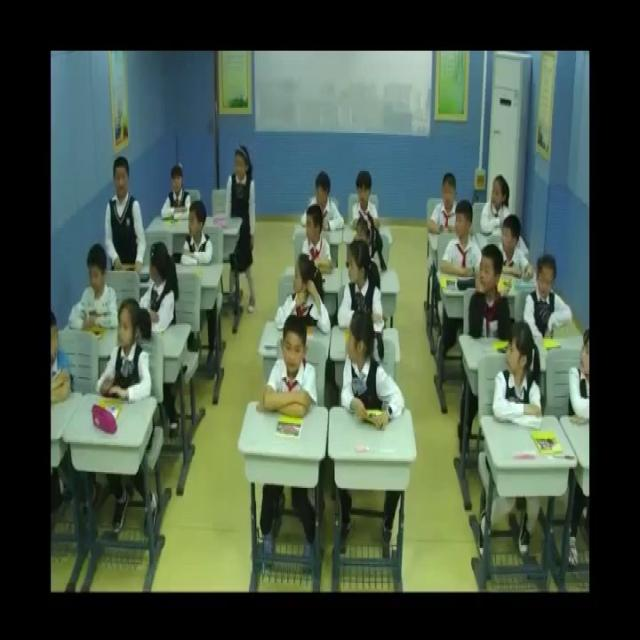distracted: (341, 308, 407, 432), (490, 320, 542, 426), (524, 252, 574, 348), (337, 240, 385, 332), (278, 252, 330, 334), (464, 246, 508, 342), (226, 140, 256, 278), (438, 200, 489, 280), (138, 238, 180, 330), (496, 214, 538, 292), (301, 170, 344, 238), (567, 331, 595, 422), (48, 308, 74, 406), (301, 203, 335, 276), (180, 196, 213, 268), (481, 172, 516, 238), (355, 208, 387, 278)
focused: (262, 320, 319, 426), (94, 300, 150, 404), (67, 247, 121, 339), (107, 157, 146, 280), (161, 161, 196, 230), (428, 169, 464, 234), (349, 168, 383, 235)
